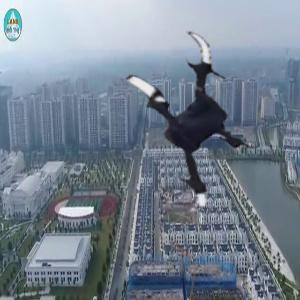drone: (90, 28, 273, 211)
